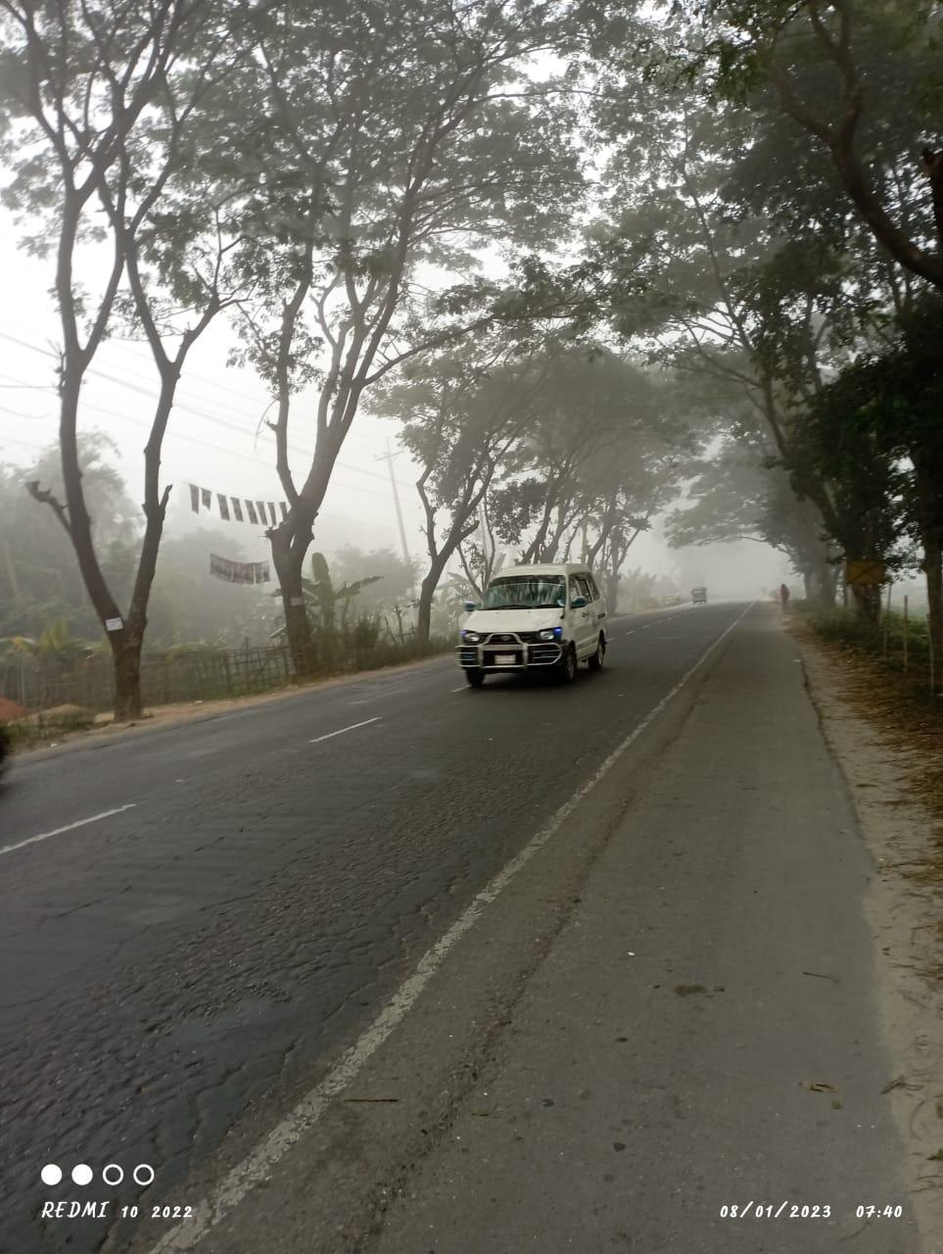Car: (429, 560, 621, 690)
